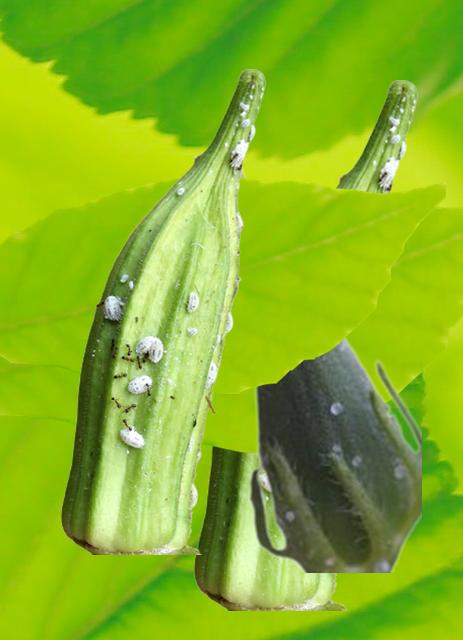okra: (194, 80, 417, 609), (61, 69, 265, 553), (189, 152, 420, 571)
